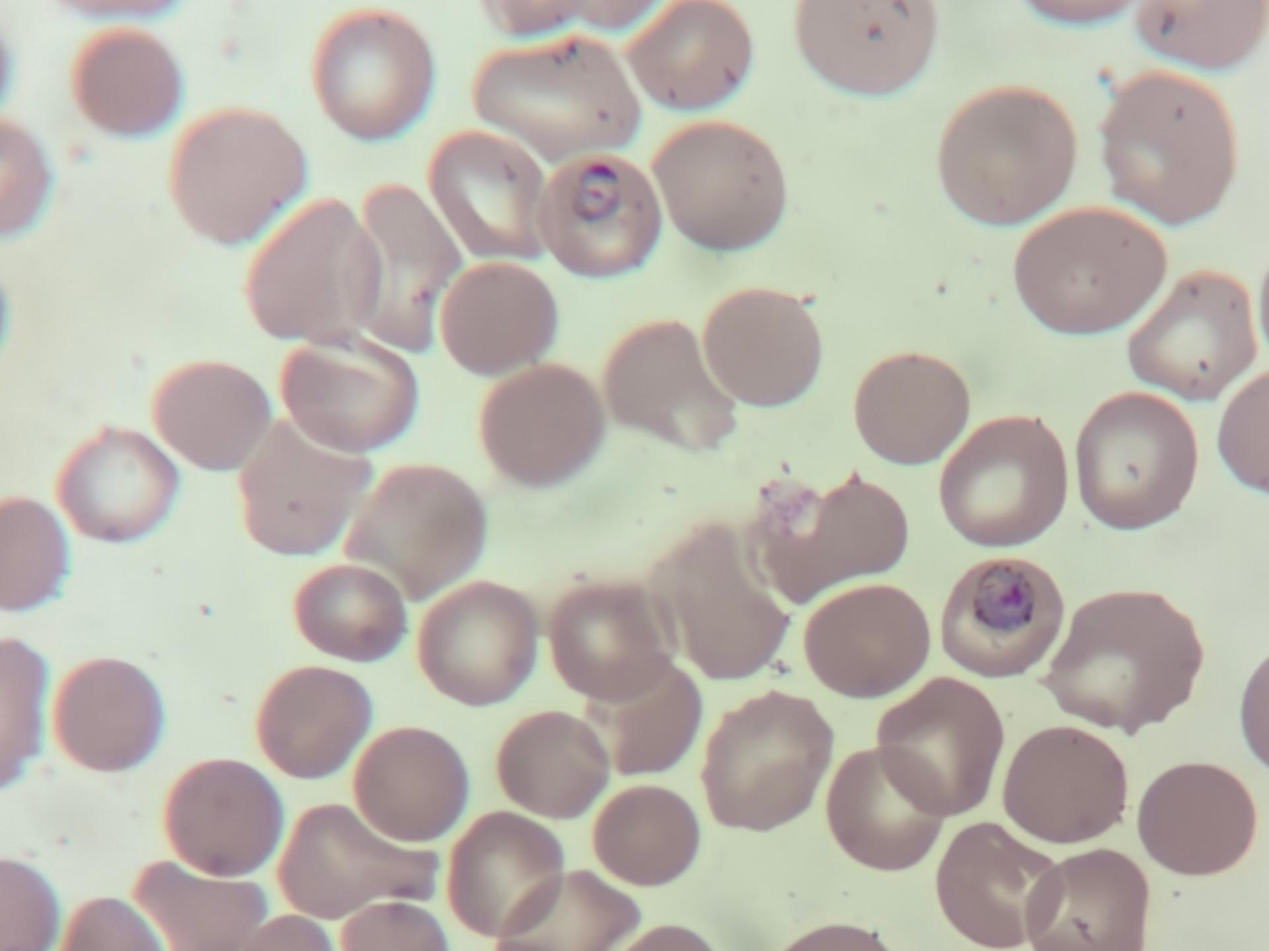Infected: (534, 151, 662, 275), (938, 556, 1063, 679)
Uninfected: (1044, 593, 1200, 735), (649, 524, 788, 675), (1104, 71, 1235, 223), (473, 38, 635, 160), (246, 199, 381, 344), (936, 85, 1075, 224), (343, 463, 483, 599), (765, 474, 907, 605), (1014, 207, 1160, 334), (167, 108, 304, 241), (280, 803, 439, 916), (238, 421, 372, 554), (601, 321, 734, 452), (650, 123, 787, 250), (701, 693, 831, 826), (938, 416, 1067, 546), (359, 185, 466, 341), (1075, 388, 1191, 531), (878, 679, 999, 815), (280, 340, 414, 458), (426, 130, 549, 257), (1132, 272, 1255, 399), (477, 365, 601, 488), (312, 11, 431, 136), (415, 583, 536, 703), (703, 286, 822, 407), (444, 814, 562, 936), (162, 759, 282, 878), (802, 584, 925, 698), (437, 260, 558, 374), (547, 587, 666, 700), (855, 353, 969, 470), (256, 666, 373, 780), (1005, 729, 1122, 843), (54, 430, 174, 541), (49, 658, 161, 774), (1135, 764, 1252, 874), (150, 361, 268, 470), (626, 2, 747, 108), (352, 732, 469, 840), (800, 2, 935, 95), (827, 753, 937, 865), (937, 829, 1044, 944), (496, 712, 607, 818), (73, 28, 181, 135), (1026, 853, 1144, 950), (134, 860, 268, 945), (293, 565, 405, 662), (592, 786, 698, 884), (606, 673, 702, 776)
